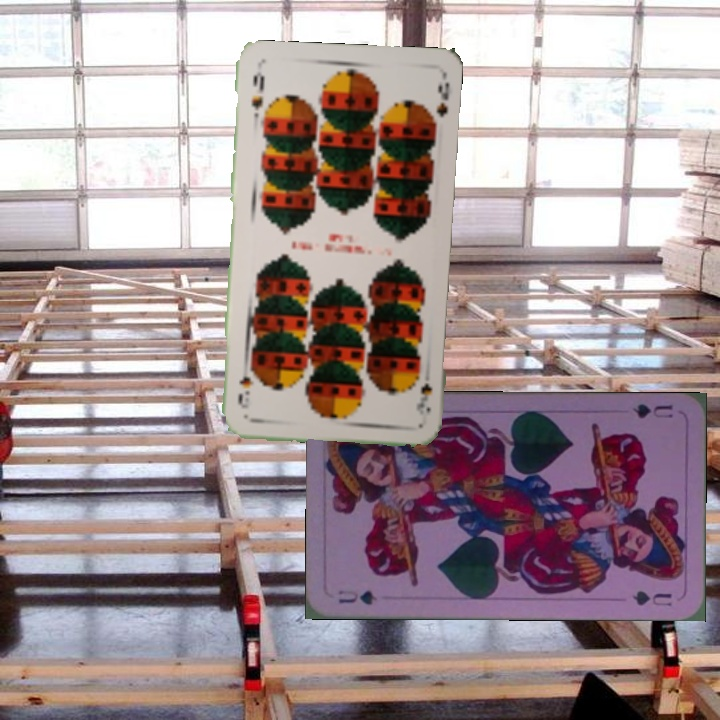GU: (628, 399, 675, 421), (334, 586, 380, 608)
S9: (247, 68, 267, 113), (412, 379, 435, 417)
